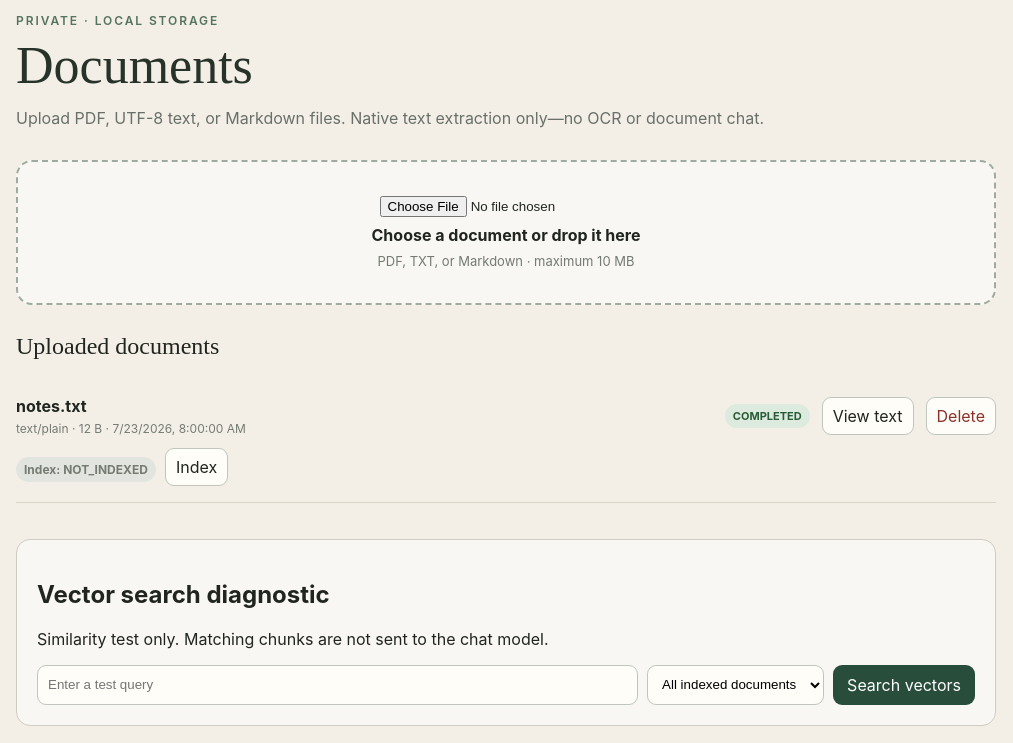
Scenario: document management › indexes and renders chunk metadata
The width and height of the screenshot is (1013, 743).
Check: the text "notes.txt" is shown, box left=16, top=396, right=86, bottom=416
Click the button "Index": [197, 467] box left=165, top=448, right=228, bottom=486
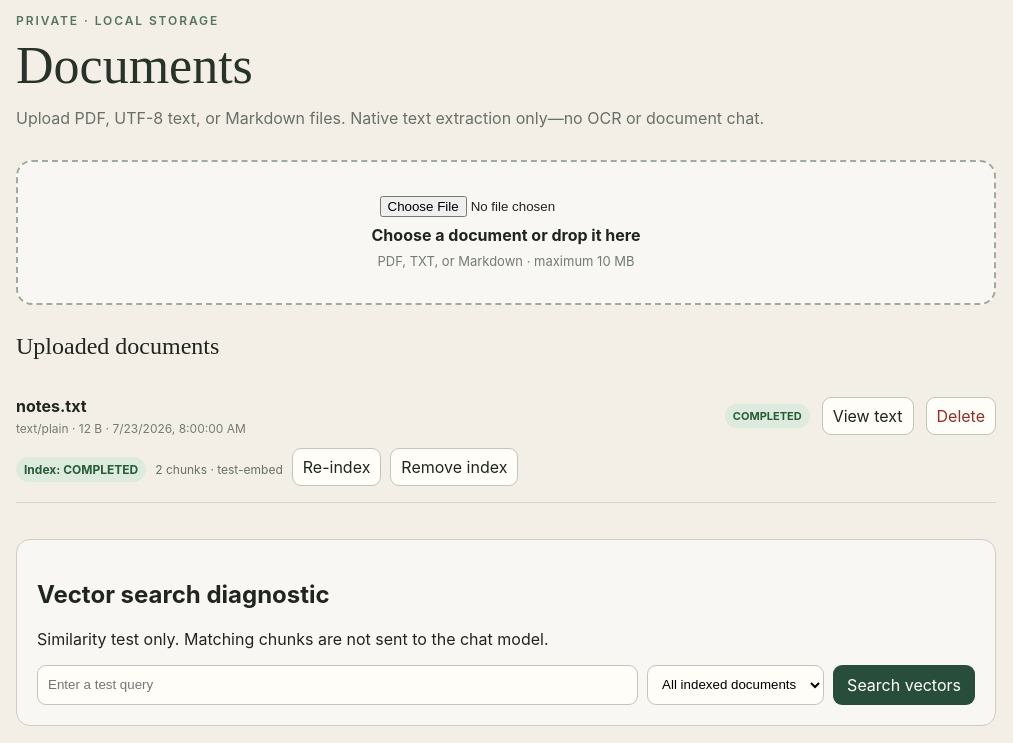
Check: the text "2 chunks · test-embed" is shown, box left=155, top=462, right=283, bottom=477
